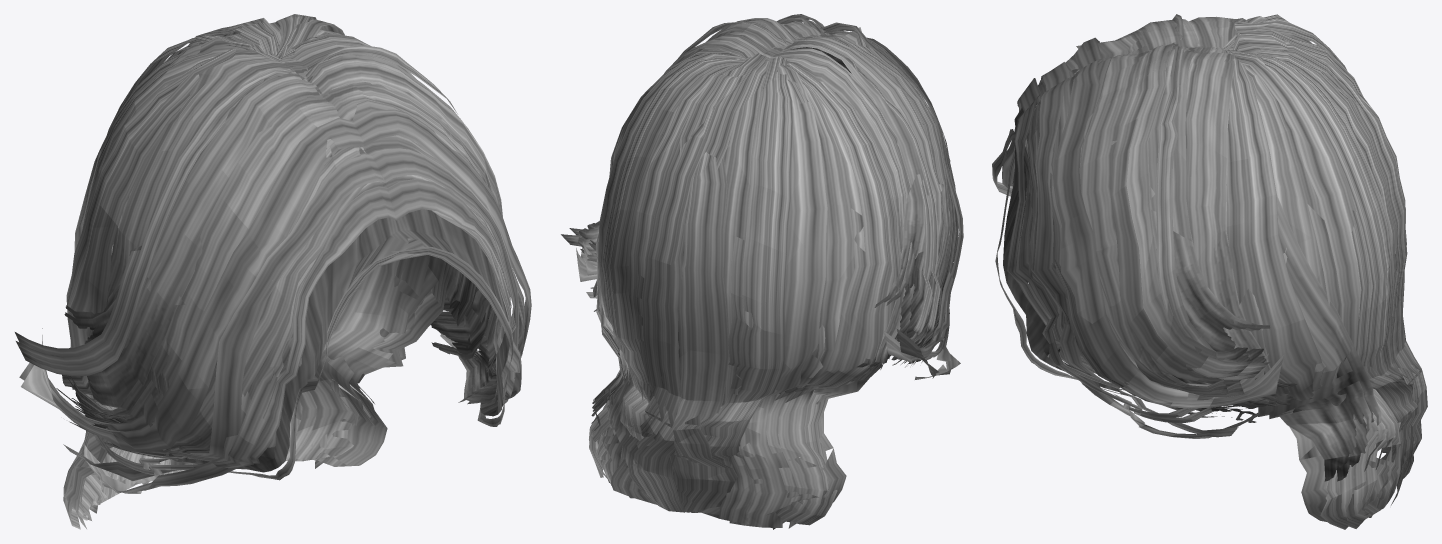
File: daz_hair_curtain_wave.glb
The picture shows the model from 3 angles, left to right: view 1: azimuth 30°, elevation 25°; view 2: azimuth 150°, elevation 25°; view 3: azimuth 270°, elevation 25°; orthographic projection. The views are drawn at different scales.
Visible parts, largest first — view 1: daz_hair_curtain_wave; view 2: daz_hair_curtain_wave; view 3: daz_hair_curtain_wave.
Boxes of the visible parts, x1=… form: daz_hair_curtain_wave: x1=15, y1=14, x2=531, y2=529; daz_hair_curtain_wave: x1=561, y1=14, x2=963, y2=529; daz_hair_curtain_wave: x1=992, y1=14, x2=1427, y2=529.
Bounding box in the file's own units: 0.2293 × 0.2442 × 0.2173.
1 material, 1 textured.
